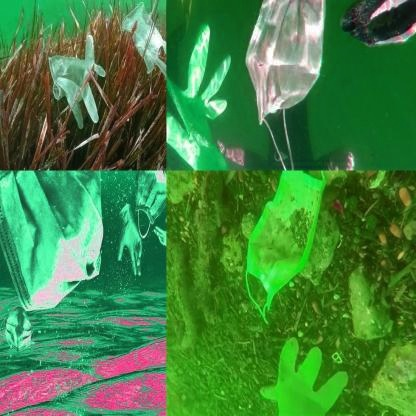Mask: (242, 0, 353, 170), (0, 171, 119, 318), (242, 171, 324, 326), (0, 300, 43, 371), (126, 170, 166, 236)
glove: (166, 13, 241, 170), (260, 334, 350, 415), (48, 30, 107, 130), (119, 0, 166, 87)
